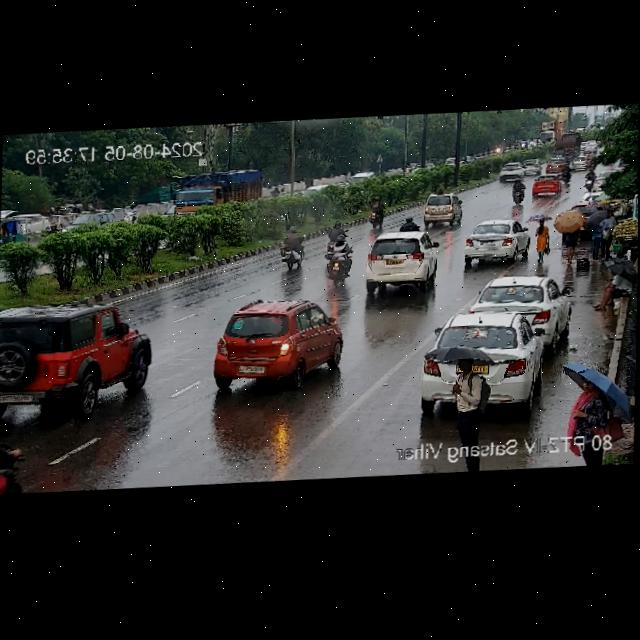car: (0, 296, 160, 421), (416, 307, 561, 417), (204, 296, 339, 392), (471, 272, 569, 337), (361, 228, 440, 291), (460, 216, 532, 262), (422, 192, 464, 228), (532, 174, 563, 199), (496, 161, 525, 181), (566, 153, 591, 171), (542, 158, 565, 174), (549, 145, 567, 161), (582, 141, 599, 153)
motorcycle: (315, 217, 353, 291), (0, 425, 22, 494), (272, 228, 306, 271), (357, 185, 388, 231), (505, 178, 527, 206), (583, 169, 595, 193)
person: (444, 352, 488, 440), (571, 374, 618, 438), (595, 260, 634, 310), (588, 206, 616, 260), (557, 212, 585, 266), (528, 217, 552, 265)
truck: (160, 164, 273, 217), (536, 119, 563, 148)
